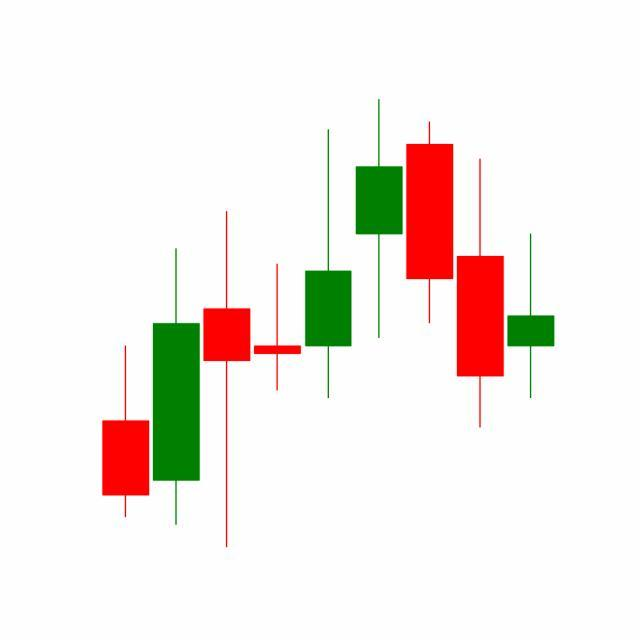Hikkake Pattern: (252, 100, 506, 434)
